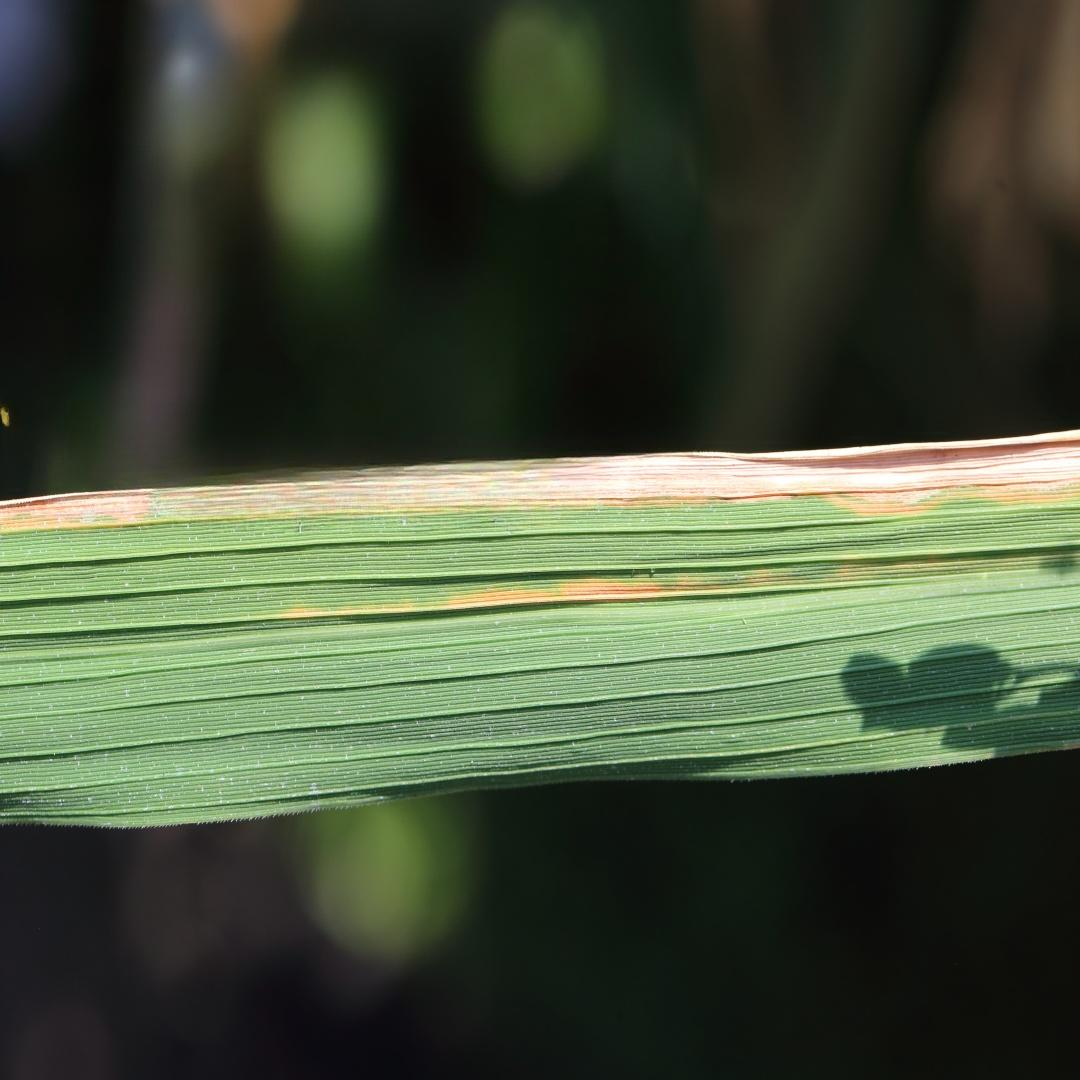BLB: (1, 433, 1078, 530)
LEAF: (0, 431, 1079, 825)
